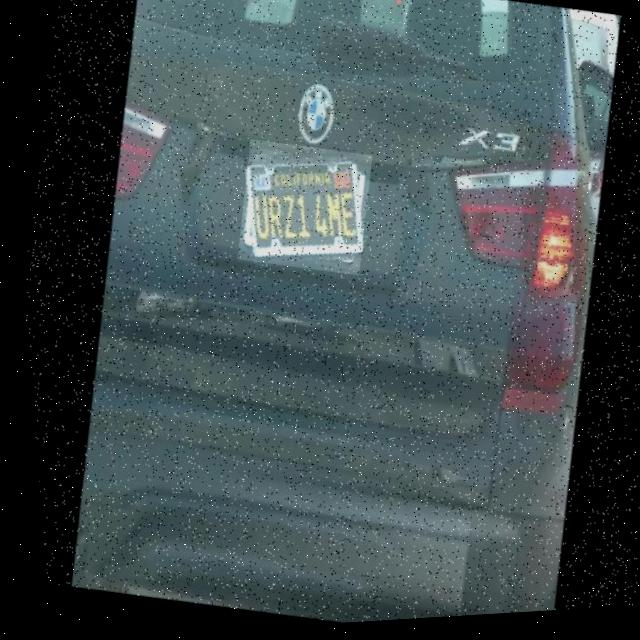LicensePlate: (225, 137, 377, 285)
